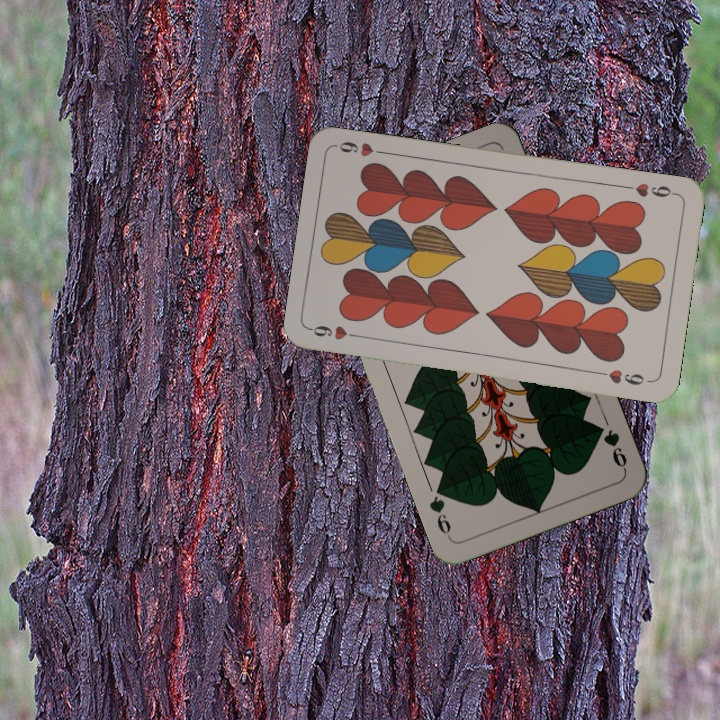G9: (591, 420, 630, 473)
H9: (307, 321, 366, 343), (620, 179, 680, 200)
